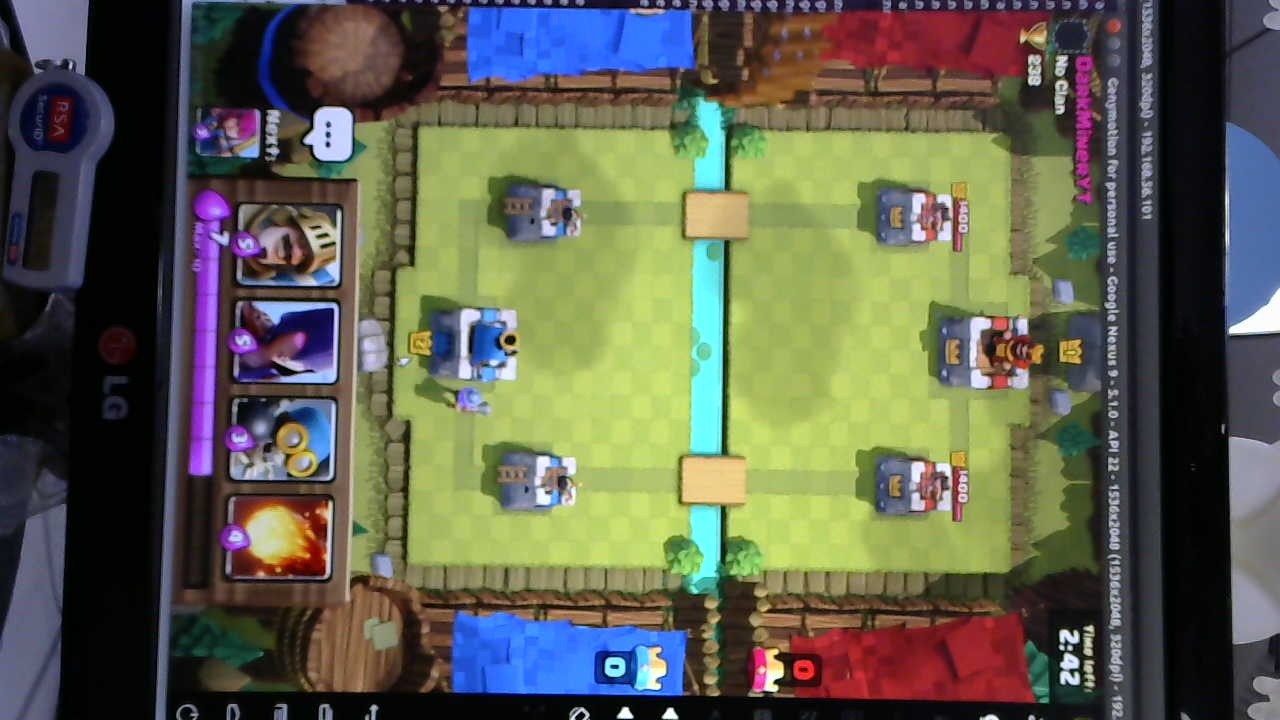arena: (501, 448, 580, 512), (507, 184, 587, 243)
earena: (874, 460, 956, 519), (878, 188, 960, 247)
eking: (943, 314, 1038, 393)
king: (433, 309, 524, 382)
musketeer: (443, 386, 491, 417)
